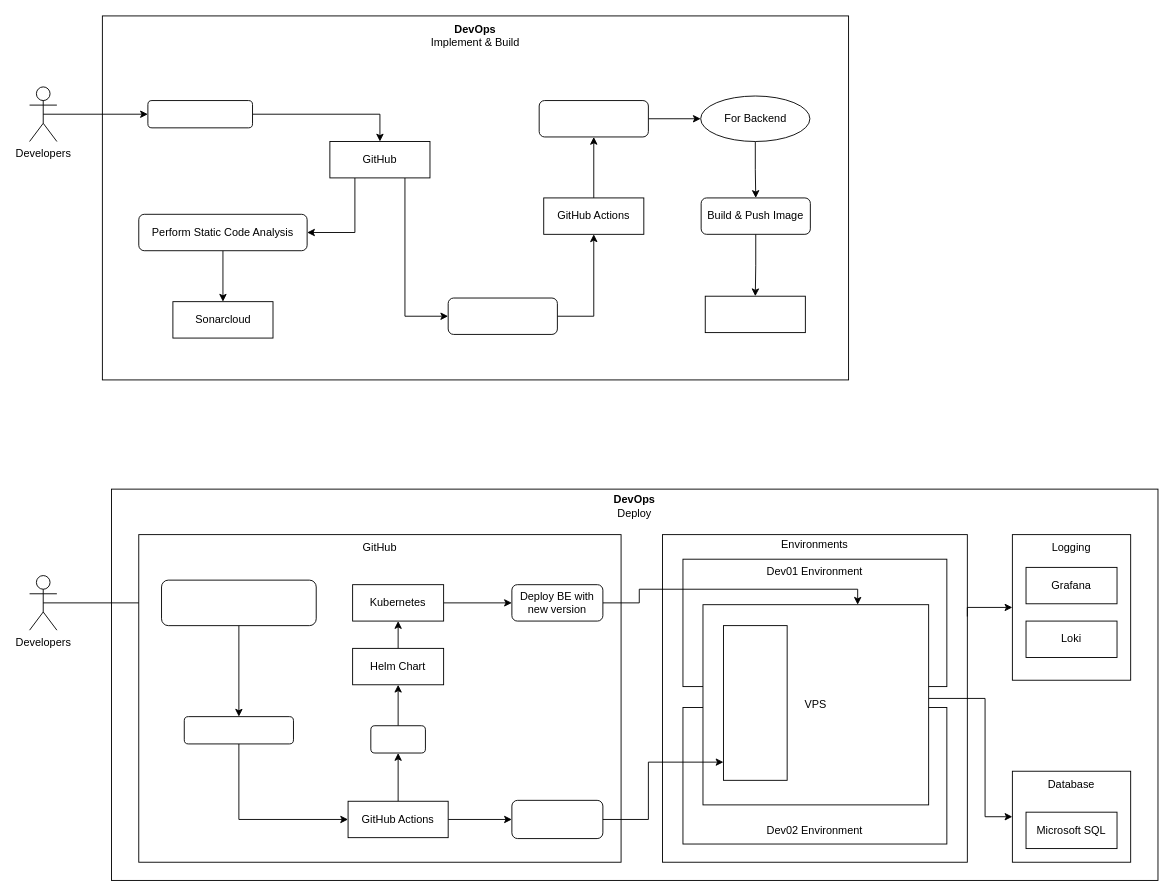
Some shapes in this 1174 by 896 pixel diagram are drawn without their labels. The box of each missing label's shape, as (x1, y1, x2, y2) in pixels:
Create a Git tag: (538, 100, 648, 137)
Deploy FE with new version: (511, 799, 603, 839)
Docker Hub: (704, 295, 805, 333)
Merge Codes into Master Branch: (447, 297, 557, 334)
Nginx: (723, 625, 787, 780)
Notify: (370, 725, 425, 753)
Push Code: (147, 100, 253, 128)
Trigger a Pipeline: (183, 716, 293, 744)
Update FE & BE Versions in the Configuration File: (161, 579, 316, 626)
